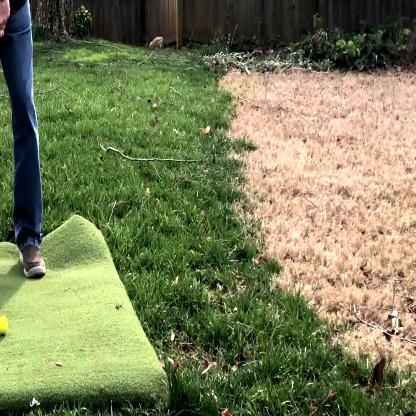ClubHead: (0, 315, 8, 336)
